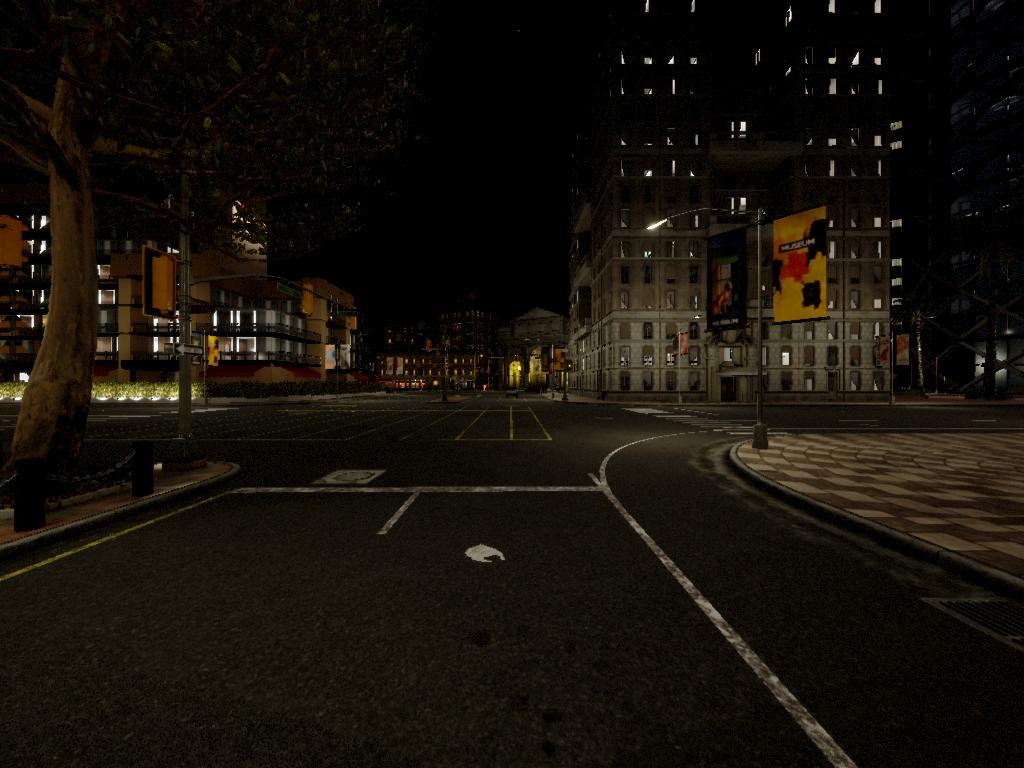traffic_light: (149, 254, 179, 313), (803, 281, 827, 313), (568, 361, 574, 372), (480, 352, 485, 361), (515, 352, 519, 360)
